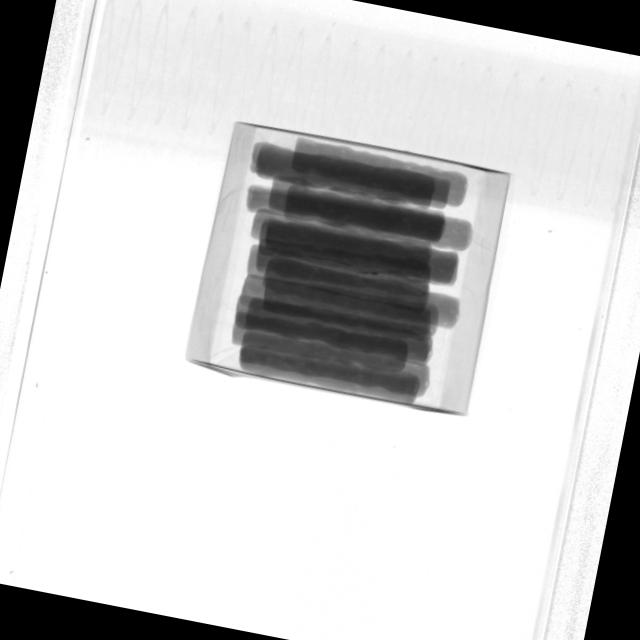ym: (362, 269, 380, 279)
